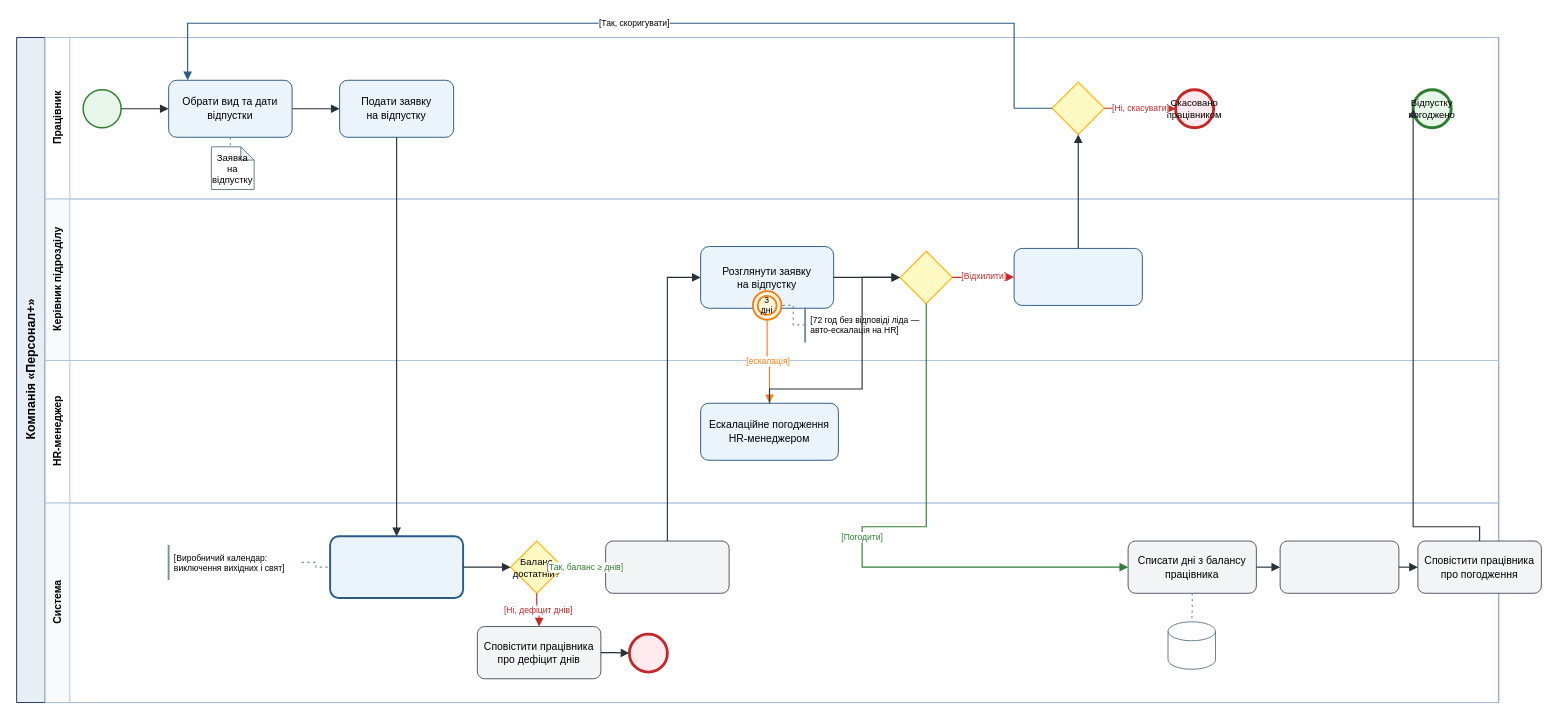
This 1558x720 diagram has some shape labels left out. The centre of each missing label's shape, as x and y in pixels:
"Виникла потреба у відпустці" goes at point 101,108.
"Вказати причину відхилення (≥10 симв)" goes at point 1077,276.
"Внести запис у календар команди" goes at point 1339,566.
"Зареєструвати заявку та сповістити ліда" goes at point 667,566.
"Заявку відхилено (дефіцит днів)" goes at point 647,652.
"Реєстр відпусток" goes at point 1191,645.
"Розрахувати робочі дні [Підпроцес: календар]" goes at point 396,566.
"Рішення керівника?" goes at point 926,277.
"Скоригувати заявку?" goes at point 1078,108.
